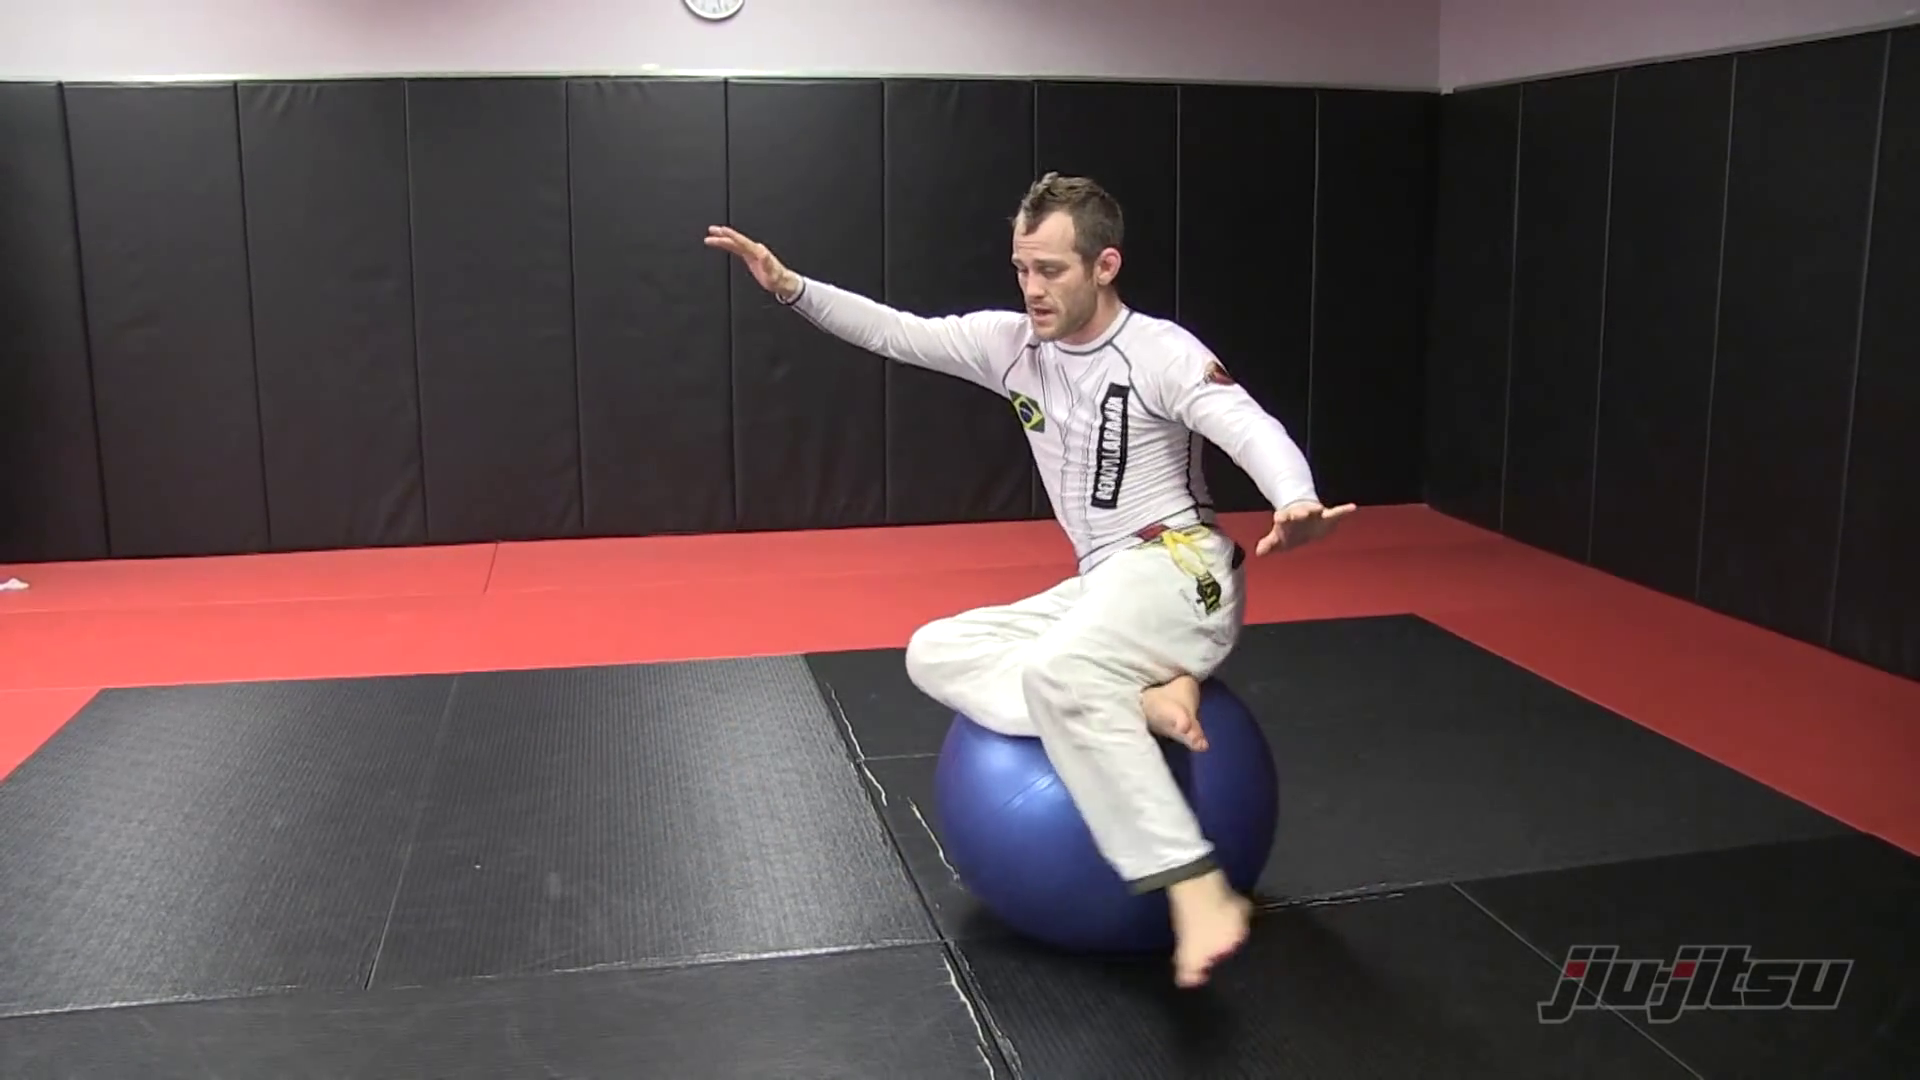yogaball: (914, 644, 1305, 973)
